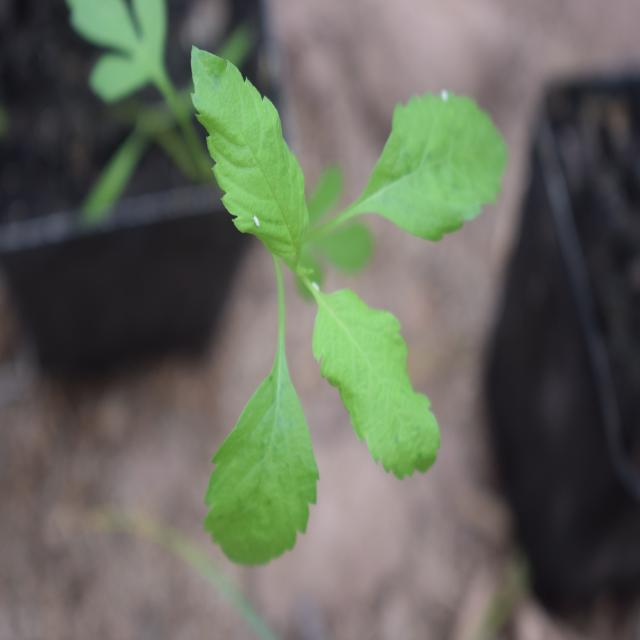Bidens pilosa: (179, 50, 495, 564)
